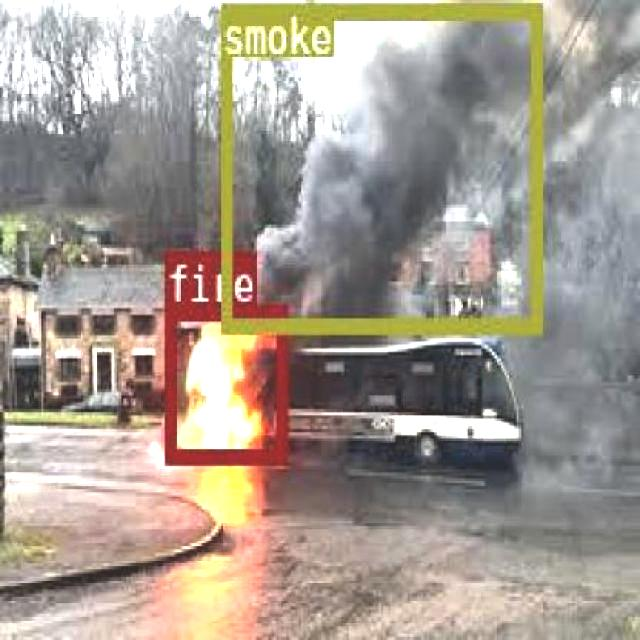fire: (163, 302, 285, 460)
smoke: (220, 2, 538, 330)
